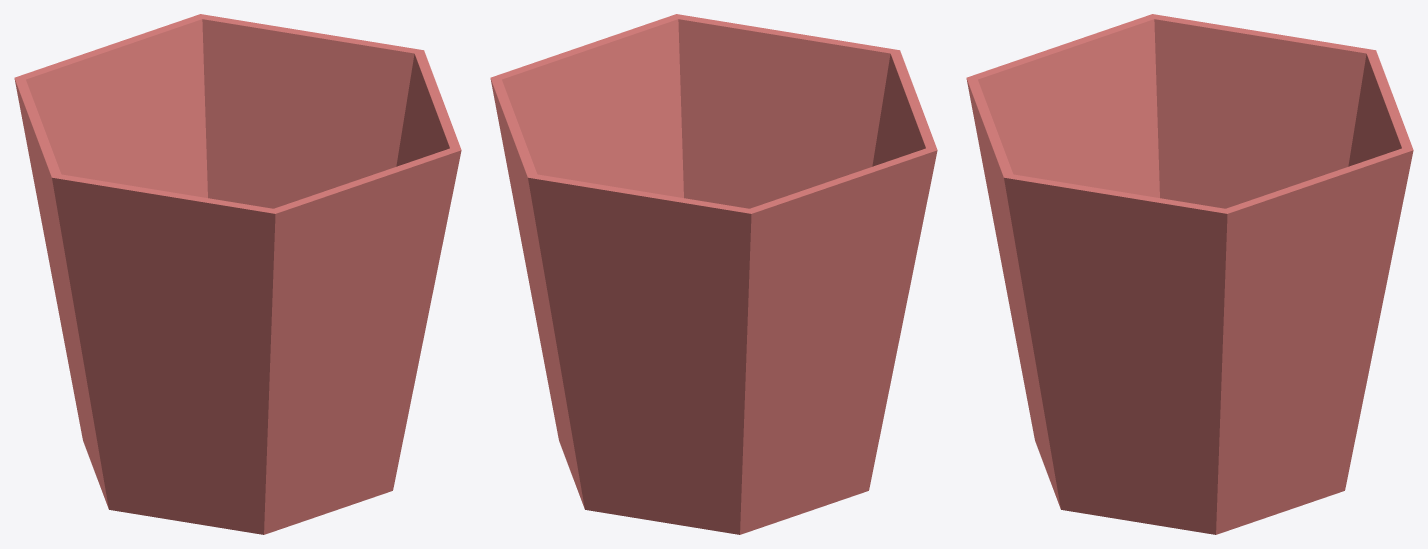
File: Poubelle.fbx
The picture shows the model from 3 angles, left to right: view 1: azimuth 30°, elevation 25°; view 2: azimuth 150°, elevation 25°; view 3: azimuth 270°, elevation 25°; orthographic projection.
Parts seen in each view (by area): view 1: Poubelle; view 2: Poubelle; view 3: Poubelle.
Part boxes in pixels (x1,y1,x2,y2): Poubelle: (14,14,461,534); Poubelle: (490,14,937,534); Poubelle: (966,14,1413,534).
Bounding box in the file's own units: 31.52 × 25.86 × 29.8.
